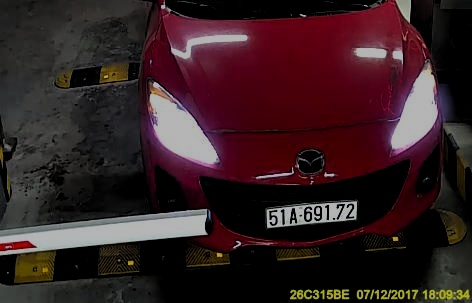plate: (259, 199, 361, 230)
